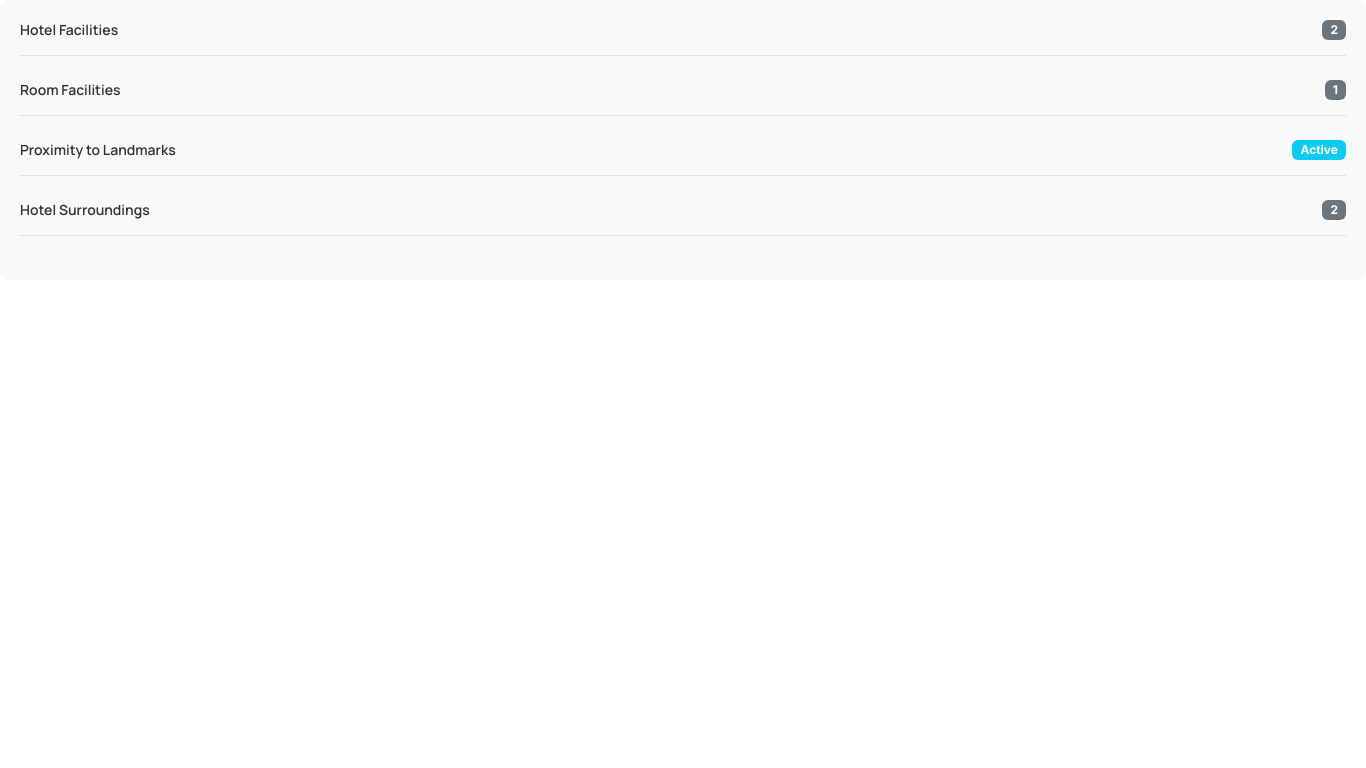
Scenario: AdvancedFilters › Multiple Filter Interactions › should handle multiple filter types simultaneously
Note: Expand and verify all sections show correct selections
What coordinates should you click on to do the following:
click the heading "Hotel Facilities"
I would click on:
 (69, 30)
Its box is left=20, top=22, right=118, bottom=38.
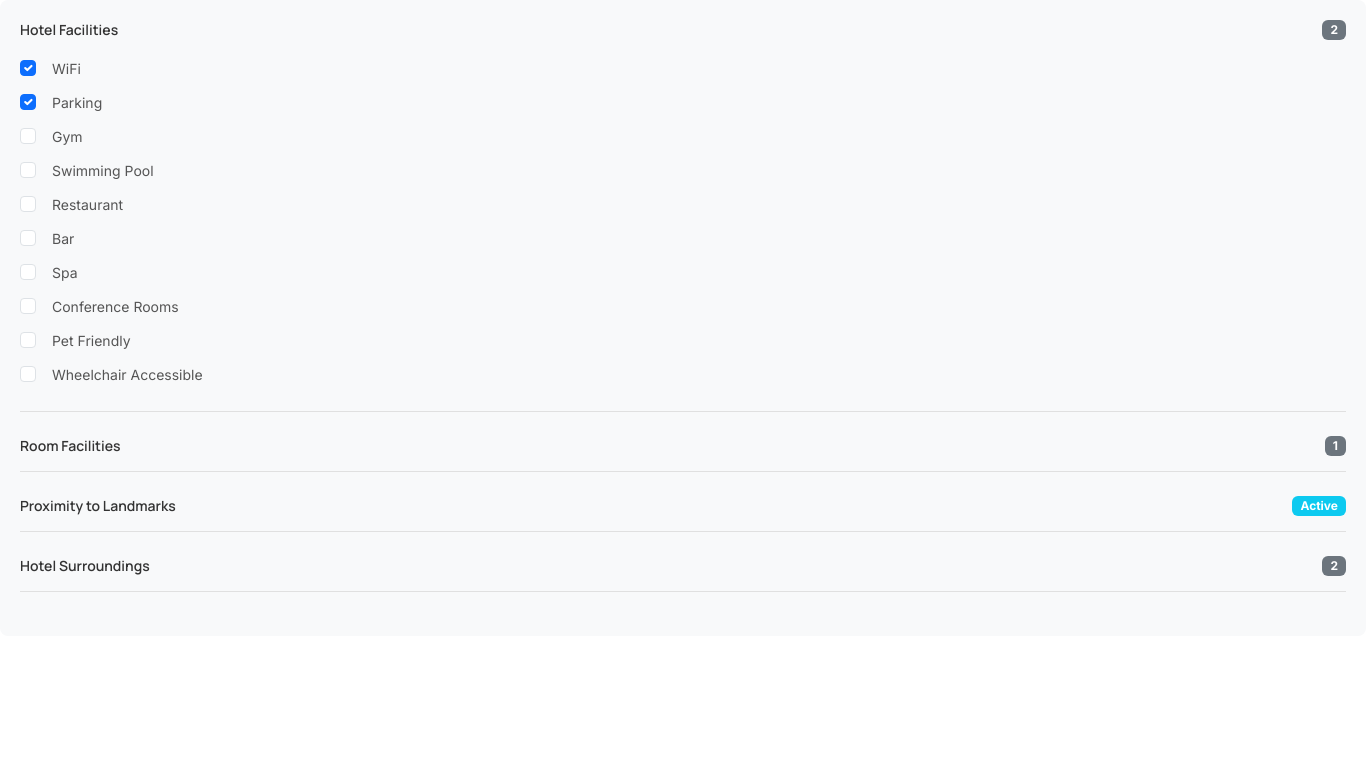
Expected: the checkbox labelled "WiFi" is checked, left=20, top=60, right=36, bottom=76
Expected: the checkbox labelled "Parking" is checked, left=20, top=94, right=36, bottom=110
What coordinates should you click on to do the following:
click the heading "Room Facilities"
I would click on:
 (70, 446)
Its box is left=20, top=438, right=121, bottom=454.
(page scrolled)
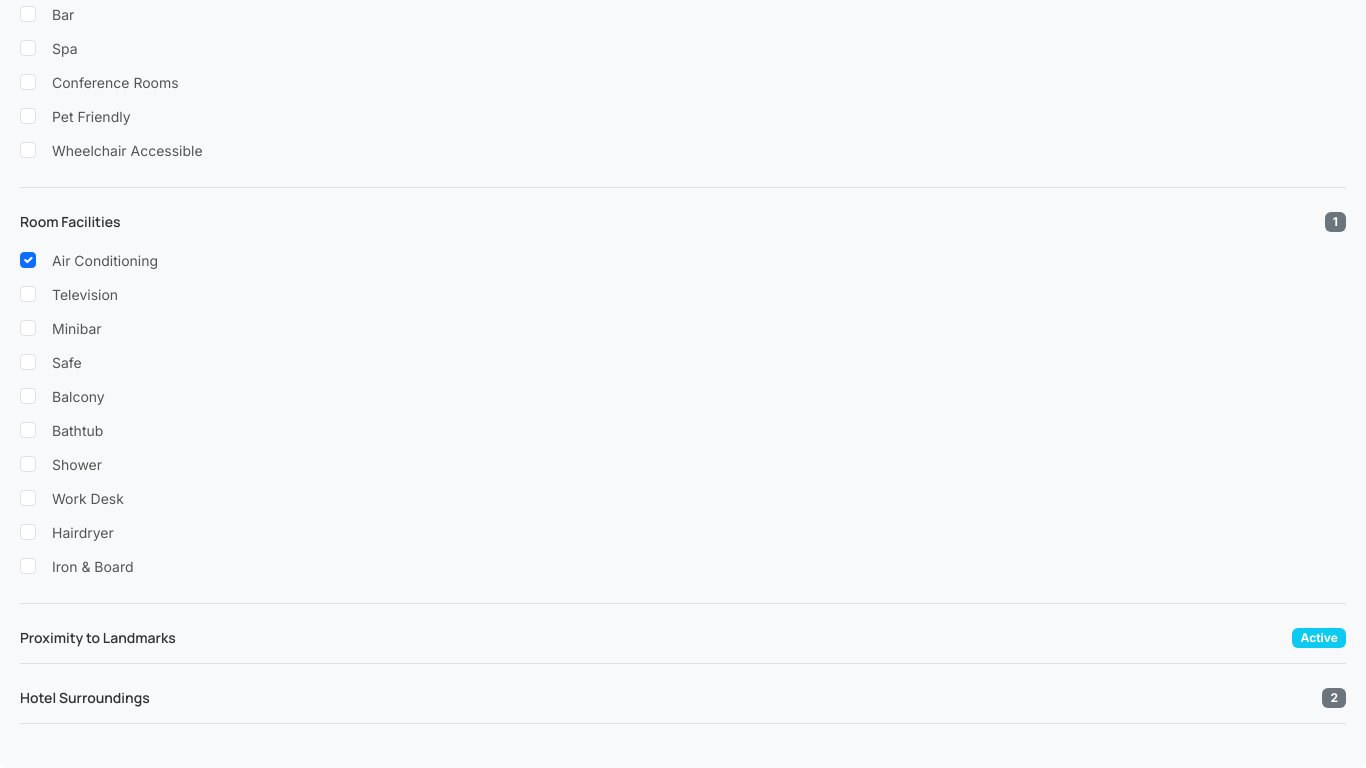
Expected: the checkbox labelled "Air Conditioning" is checked, left=20, top=252, right=36, bottom=268
What coordinates should you click on to do the following:
click the heading "Proximity to Landmarks"
I would click on:
 (98, 638)
Its box is left=20, top=630, right=176, bottom=646.
(page scrolled)
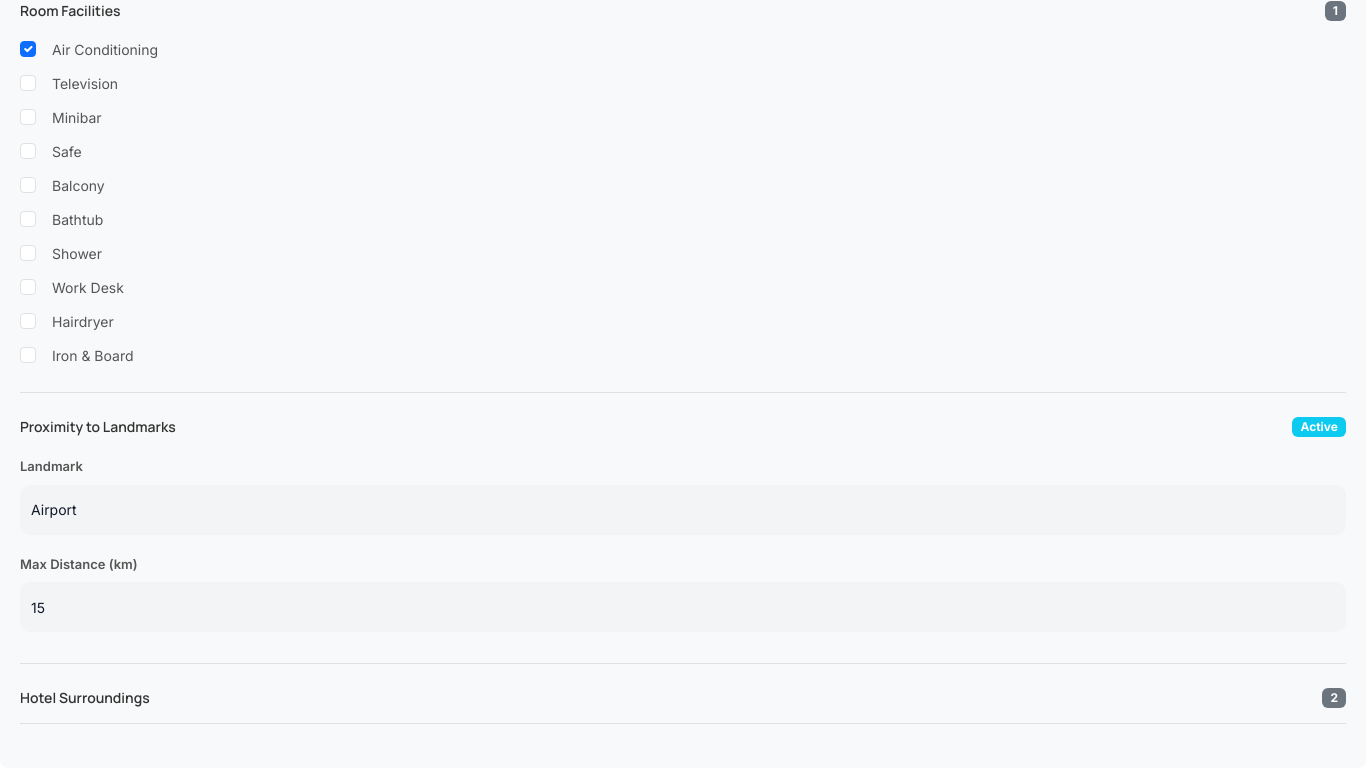
Expected: the field with placeholder "e.g., Airport, Train Station" holds "Airport", left=20, top=484, right=1346, bottom=534
What coordinates should you click on to do the following:
click the heading "Hotel Surroundings"
I would click on:
 (85, 698)
Its box is left=20, top=690, right=150, bottom=706.
(page scrolled)
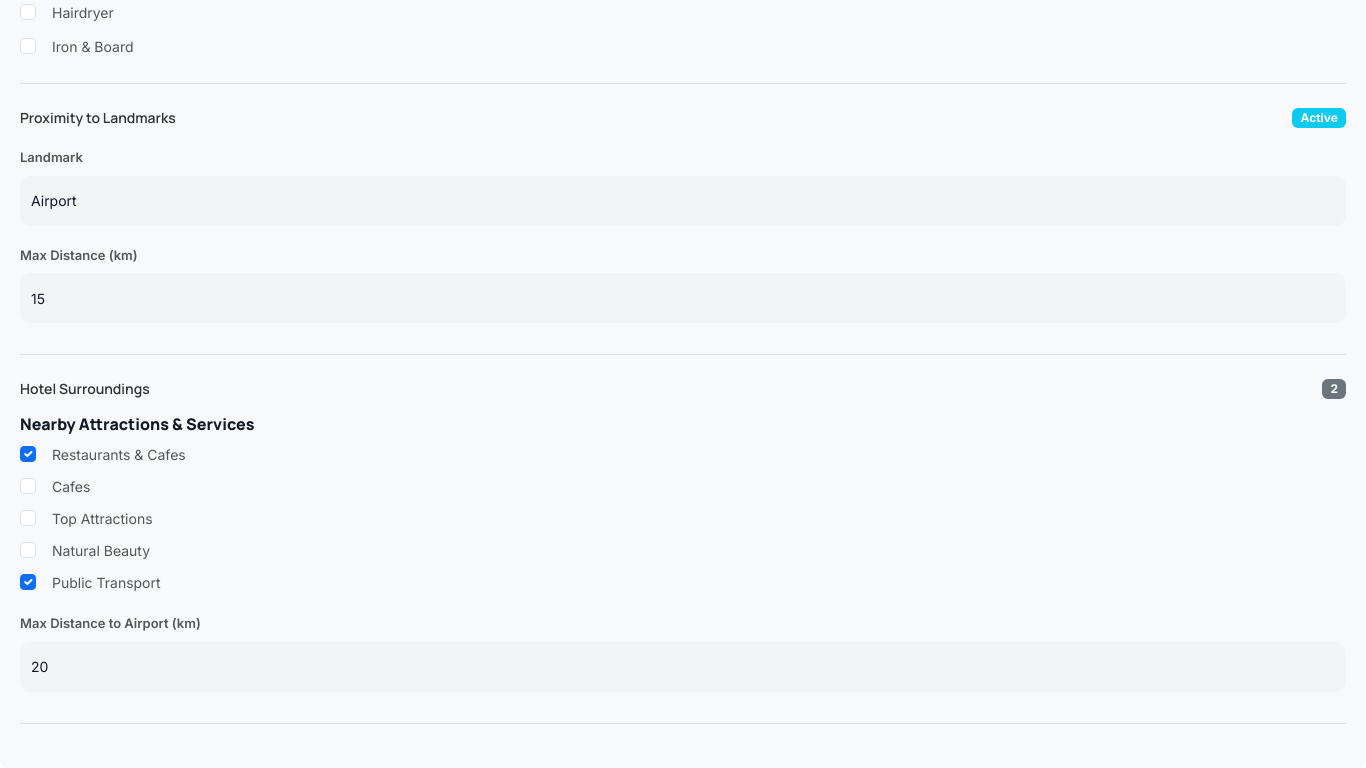
Expected: the checkbox labelled "Restaurants & Cafes" is checked, left=20, top=446, right=36, bottom=462
Expected: the checkbox labelled "Public Transport" is checked, left=20, top=574, right=36, bottom=590
